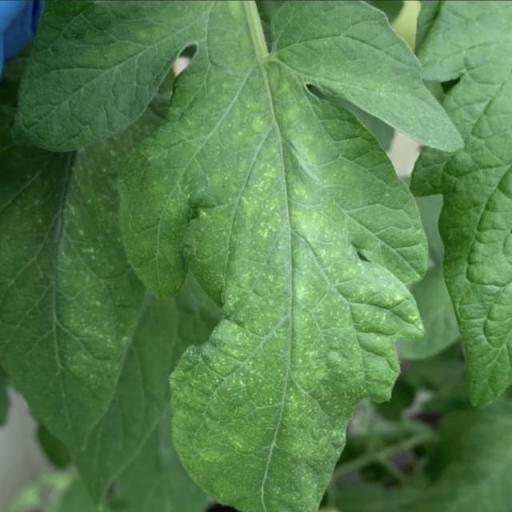disease_tomato: (116, 0, 432, 512)
